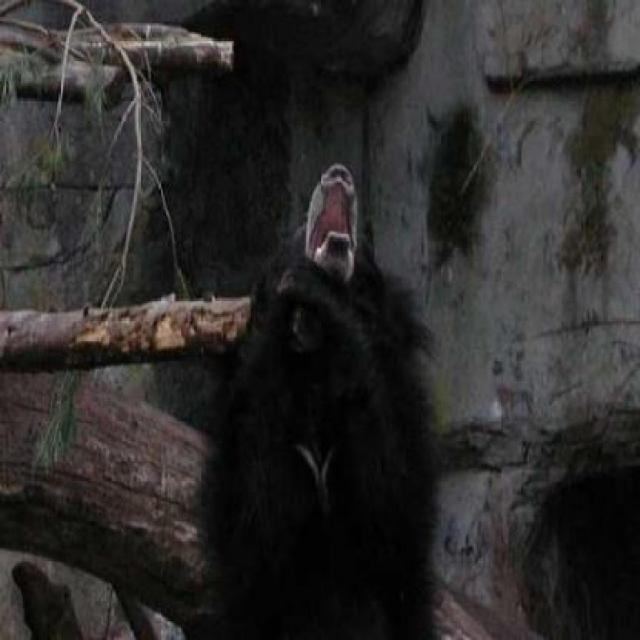Bear: (214, 158, 472, 639)
